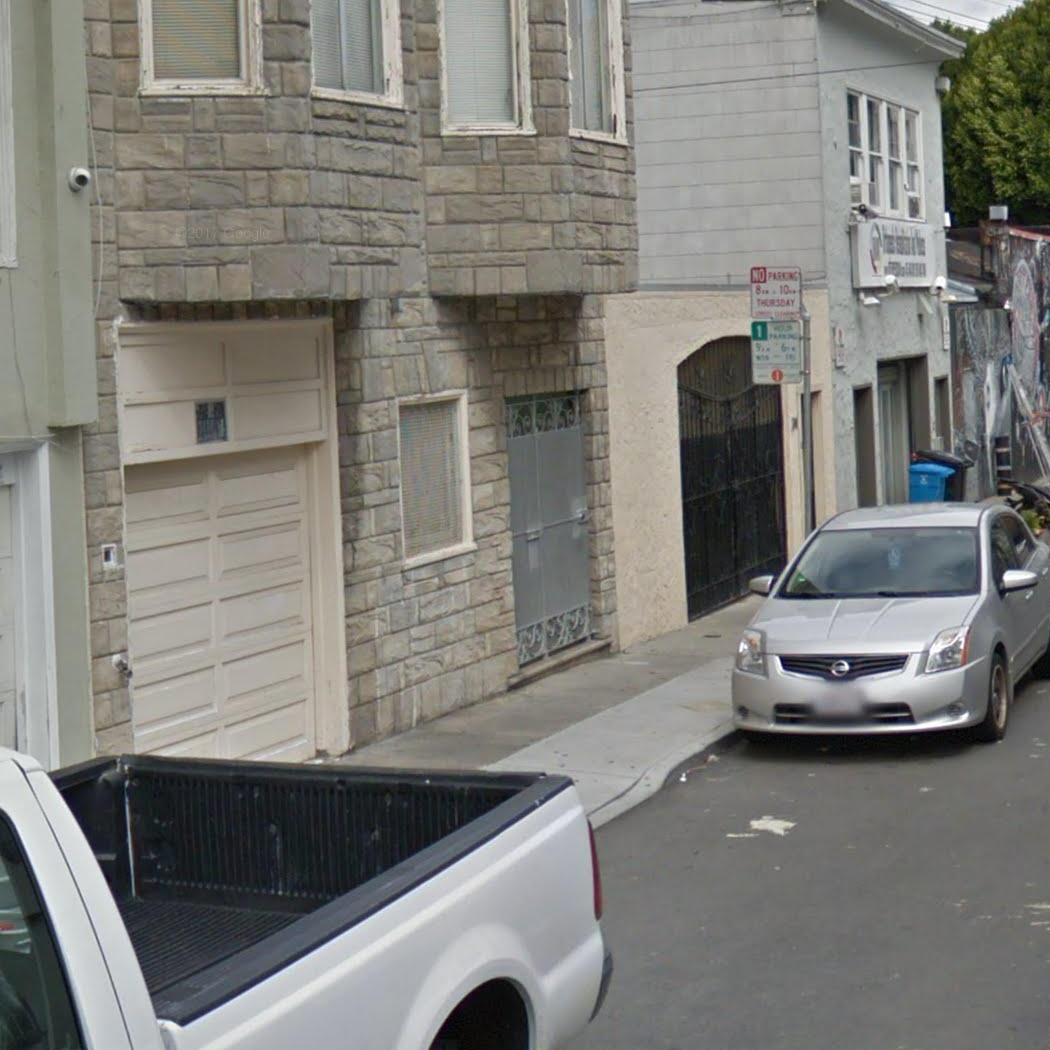1 Hour Parking: (751, 320, 805, 385)
No Parking: (749, 264, 805, 319)
